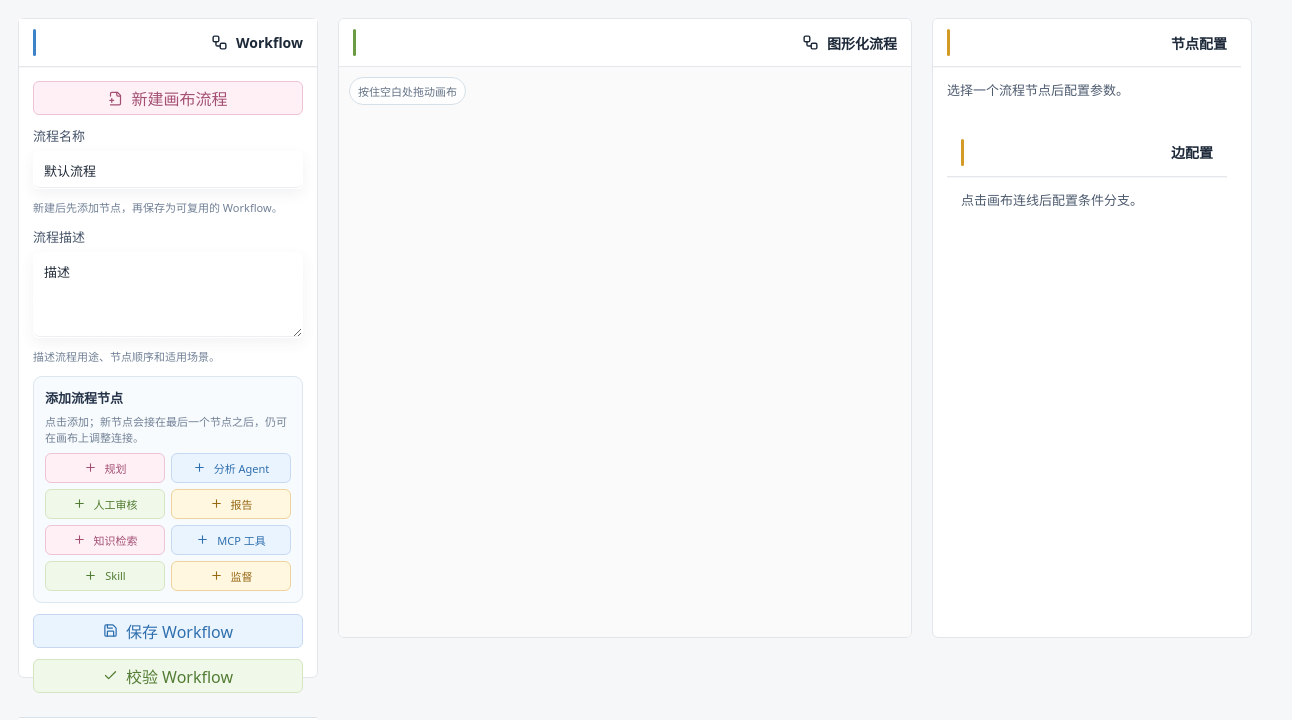
Test case: WorkflowPage › renders a compatible service error when saving fails
Click the button "保存 Workflow". click: (168, 631)
box: [33,614,303,648]
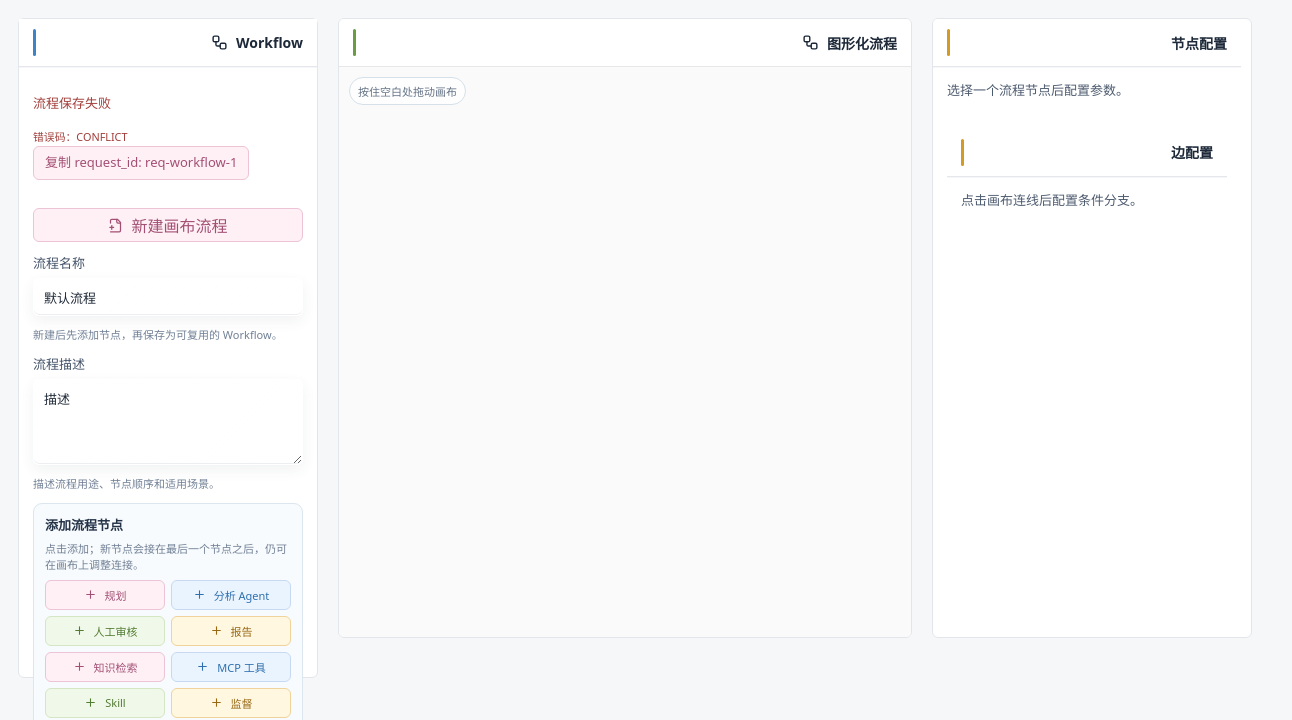
expect the message shows "流程保存失败": met, box [33,94,111,112]
expect the button "复制 request_id: req-workflow-1" is shown: met, box [33,146,249,180]
